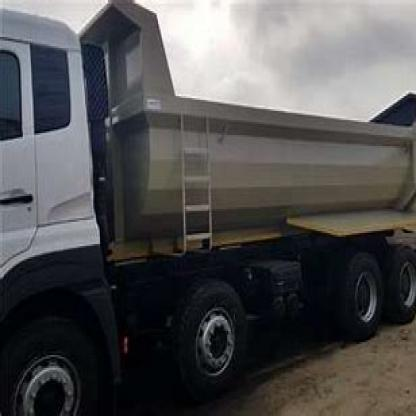dump_truck: (11, 6, 414, 414)
